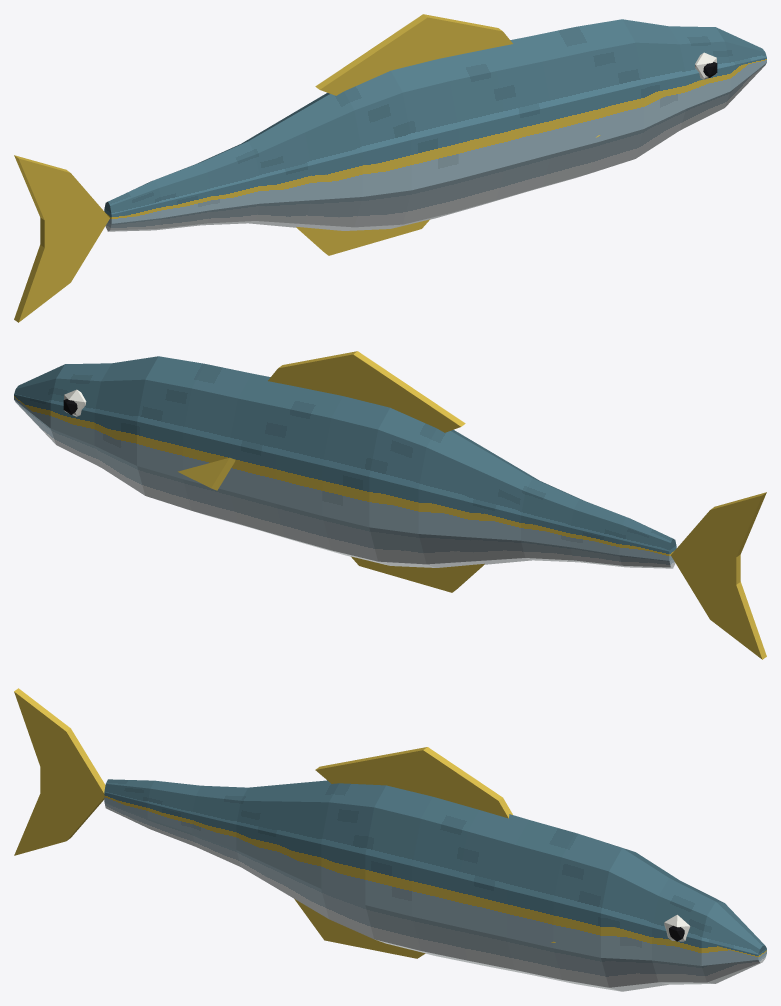
File: yellowtail_scad.glb
The picture shows the model from 3 angles, top to bottom: view 1: azimuth 30°, elevation 25°; view 2: azimuth 150°, elevation 25°; view 3: azimuth 330°, elevation 25°; orthographic projection.
Parts seen in each view (by area): view 1: fish_yellowtail_scad; view 2: fish_yellowtail_scad; view 3: fish_yellowtail_scad.
Boxes of the visible parts, x1,y1,x2,y2 form: fish_yellowtail_scad: (14,14,766,322); fish_yellowtail_scad: (14,351,766,659); fish_yellowtail_scad: (14,688,766,991).
Size of the model in its own units: 1.14 by 0.3129 by 0.1501.
Materials: 4 (1 with a texture image).
